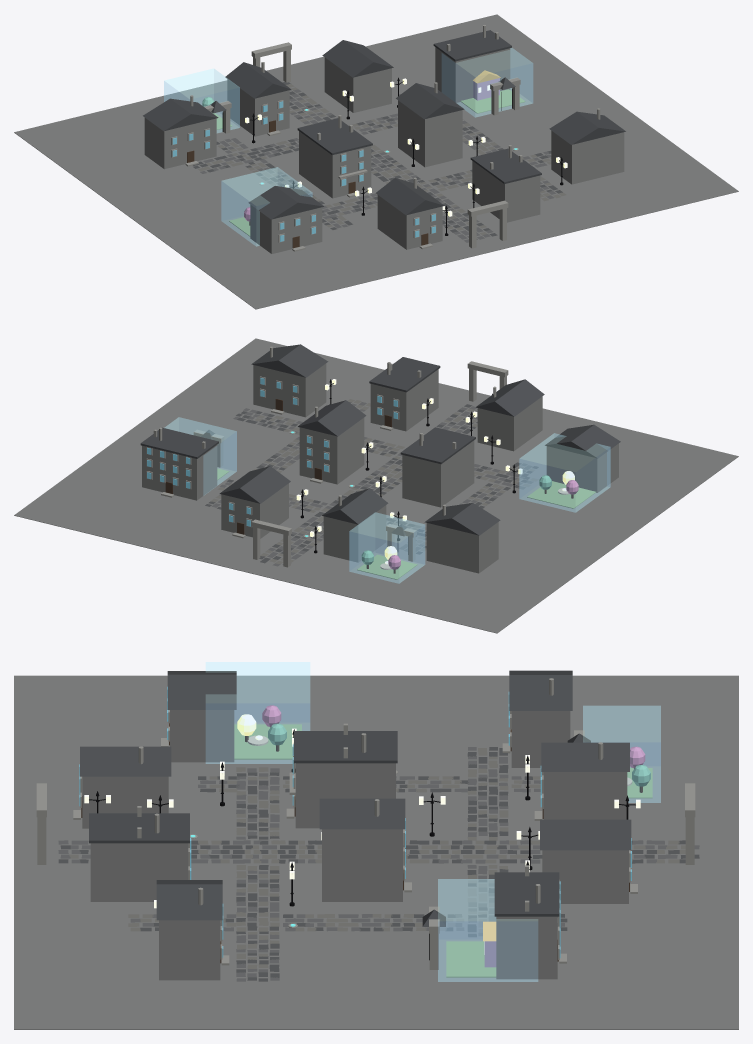
Rendered from Location02_ProtectedAlleysNight.fbx.
3 views of the same model, one above another, from view 1: azimuth 30°, elevation 25°; view 2: azimuth 150°, elevation 25°; view 3: azimuth 270°, elevation 25° (orthographic). The views are drawn at different scales.
Parts seen in each view (by area): view 1: GROUND_OldTown_60x52m_SoftEdge, ARCH_WestRow_A_StoneThreshold, ARCH_SouthCross_Left_StoneThreshold, ARCH_SouthCross_Right_SteepSlateRoof, ARCH_NorthCross_Left_Chimney, ZONE_EastSanctuary_BrightInterior_TranslucentProtectionVolum, ARCH_EastRow_B_OldStoneBody, ARCH_WestRow_B_OldStoneBody, ARCH_NorthCross_Right_OldStoneBody, ARCH_EastRow_C_OldStoneBody, ZONE_NorthPocket_WarmDream_TranslucentProtectionVolume, ARCH_WestRow_C_OldStoneBody (+7 smaller); view 2: GROUND_OldTown_60x52m_SoftEdge, ARCH_WestRow_A_StoneThreshold, ARCH_SouthCross_Left_StoneThreshold, ARCH_SouthCross_Right_SteepSlateRoof, ZONE_NorthPocket_WarmDream_TranslucentProtectionVolume, ARCH_NorthCross_Left_Chimney, ARCH_WestRow_B_OldStoneBody, ARCH_EastRow_B_OldStoneBody, ARCH_NorthCross_Right_OldStoneBody, ARCH_WestRow_C_OldStoneBody, ZONE_EastSanctuary_BrightInterior_TranslucentProtectionVolum, ARCH_EastRow_C_OldStoneBody (+8 smaller); view 3: GROUND_OldTown_60x52m_SoftEdge, ARCH_WestRow_A_StoneThreshold, ARCH_SouthCross_Left_StoneThreshold, ZONE_EastSanctuary_BrightInterior_TranslucentProtectionVolum, ARCH_SouthCross_Right_SteepSlateRoof, ARCH_EastRow_B_OldStoneBody, ARCH_NorthCross_Left_Chimney, ZONE_NorthPocket_WarmDream_TranslucentProtectionVolume, ARCH_WestRow_B_OldStoneBody, ARCH_EastRow_C_OldStoneBody, ARCH_WestRow_C_OldStoneBody, ARCH_NorthCross_Right_OldStoneBody (+8 smaller).
Boxes of the visible parts, left/top/right/bottom form: GROUND_OldTown_60x52m_SoftEdge: left=14, top=14, right=738, bottom=309; ARCH_WestRow_A_StoneThreshold: left=376, top=145, right=541, bottom=249; ARCH_SouthCross_Left_StoneThreshold: left=221, top=167, right=324, bottom=253; ARCH_SouthCross_Right_SteepSlateRoof: left=549, top=108, right=625, bottom=184; ARCH_NorthCross_Left_Chimney: left=143, top=95, right=218, bottom=169; ZONE_EastSanctuary_BrightInterior_TranslucentProtectionVolum: left=442, top=48, right=532, bottom=117; ARCH_EastRow_B_OldStoneBody: left=398, top=100, right=462, bottom=167; ARCH_WestRow_B_OldStoneBody: left=299, top=131, right=371, bottom=198; ARCH_NorthCross_Right_OldStoneBody: left=435, top=47, right=510, bottom=102; ARCH_EastRow_C_OldStoneBody: left=324, top=57, right=391, bottom=112; ZONE_NorthPocket_WarmDream_TranslucentProtectionVolume: left=164, top=68, right=239, bottom=132; ARCH_WestRow_C_OldStoneBody: left=227, top=79, right=289, bottom=136; GROUND_OldTown_60x52m_SoftEdge: left=14, top=338, right=738, bottom=633; ARCH_WestRow_A_StoneThreshold: left=369, top=357, right=544, bottom=451; ARCH_SouthCross_Left_StoneThreshold: left=519, top=424, right=620, bottom=512; ARCH_SouthCross_Right_SteepSlateRoof: left=251, top=344, right=328, bottom=417; ZONE_NorthPocket_WarmDream_TranslucentProtectionVolume: left=349, top=512, right=424, bottom=583; ARCH_NorthCross_Left_Chimney: left=424, top=503, right=500, bottom=573; ARCH_WestRow_B_OldStoneBody: left=402, top=440, right=474, bottom=507; ARCH_EastRow_B_OldStoneBody: left=299, top=417, right=364, bottom=484; ARCH_NorthCross_Right_OldStoneBody: left=142, top=445, right=217, bottom=500; ARCH_WestRow_C_OldStoneBody: left=323, top=505, right=386, bottom=562; ZONE_EastSanctuary_BrightInterior_TranslucentProtectionVolum: left=164, top=417, right=236, bottom=494; ARCH_EastRow_C_OldStoneBody: left=221, top=483, right=288, bottom=538; GROUND_OldTown_60x52m_SoftEdge: left=14, top=675, right=738, bottom=1029; ARCH_WestRow_A_StoneThreshold: left=73, top=746, right=191, bottom=901; ARCH_SouthCross_Left_StoneThreshold: left=161, top=662, right=309, bottom=763; ZONE_EastSanctuary_BrightInterior_TranslucentProtectionVolum: left=438, top=879, right=537, bottom=981; ARCH_SouthCross_Right_SteepSlateRoof: left=156, top=880, right=229, bottom=980; ARCH_EastRow_B_OldStoneBody: left=322, top=829, right=402, bottom=901; ARCH_NorthCross_Left_Chimney: left=502, top=670, right=572, bottom=767; ZONE_NorthPocket_WarmDream_TranslucentProtectionVolume: left=583, top=706, right=660, bottom=802; ARCH_WestRow_B_OldStoneBody: left=295, top=763, right=395, bottom=828; ARCH_EastRow_C_OldStoneBody: left=542, top=850, right=628, bottom=903; ARCH_WestRow_C_OldStoneBody: left=543, top=772, right=627, bottom=819; ARCH_NorthCross_Right_OldStoneBody: left=496, top=916, right=557, bottom=979.
Size of the model in its own units: 6000 by 765 by 5200.
